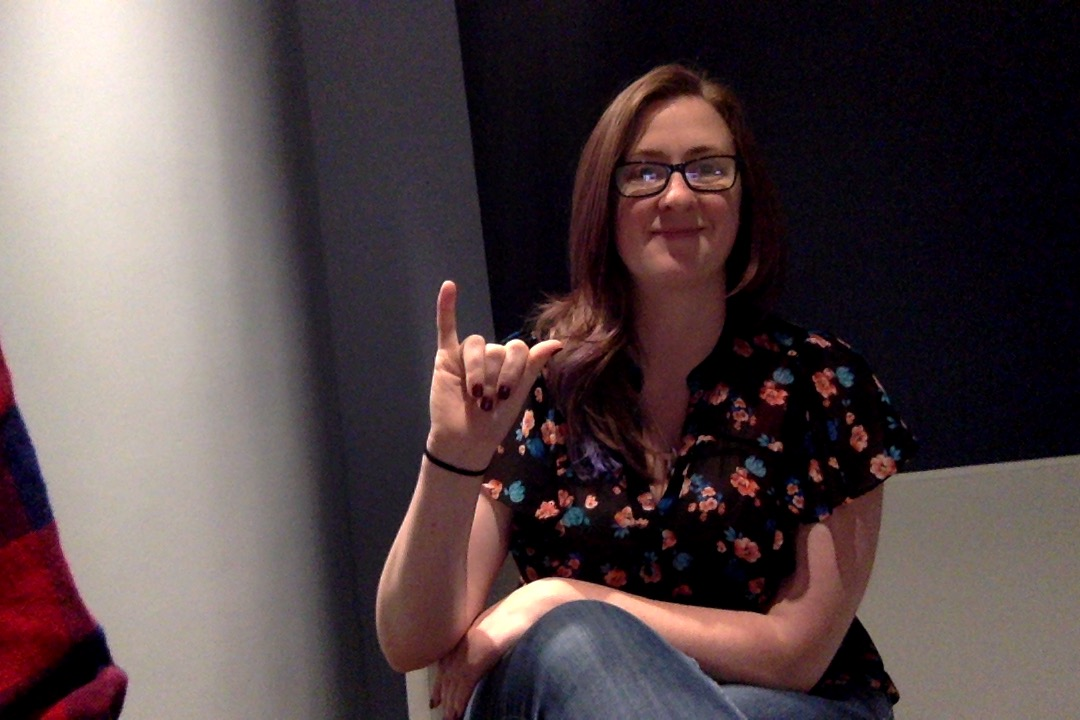i: (410, 273, 564, 504)
